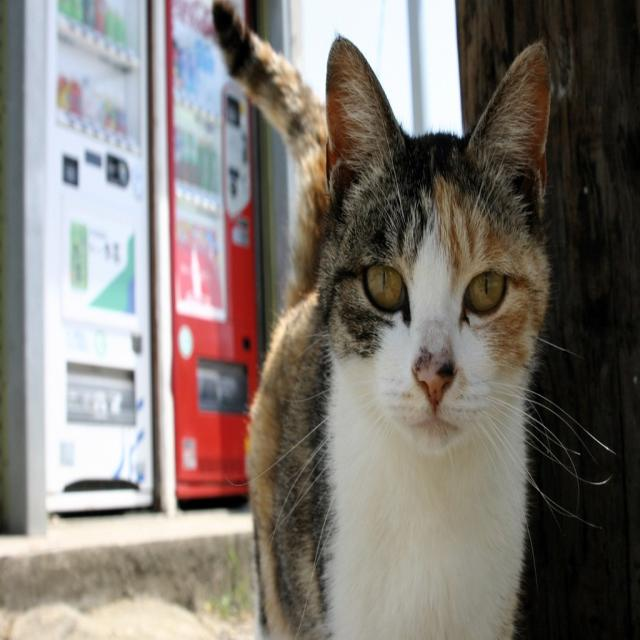Cat: (209, 9, 618, 638)
